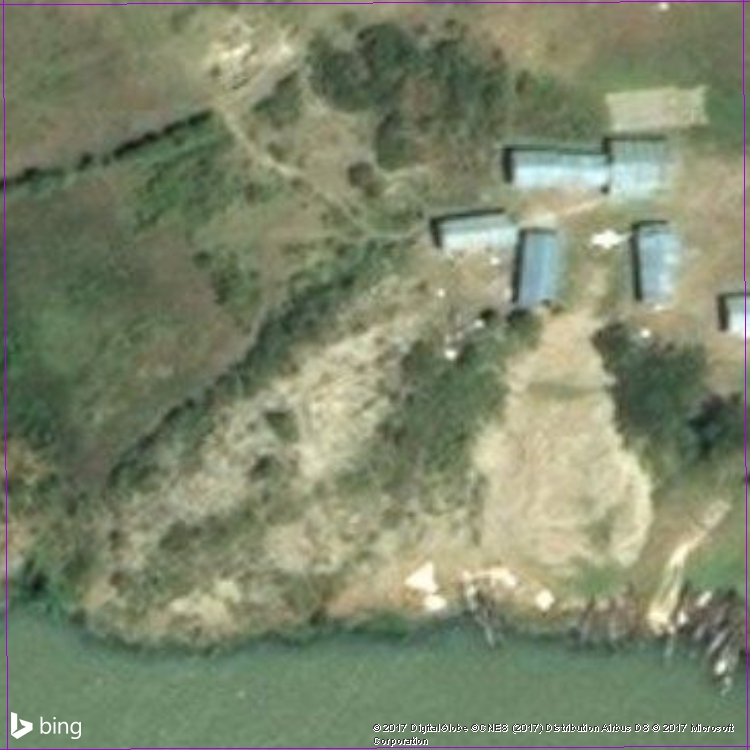boat: (602, 592, 627, 657), (576, 585, 598, 657), (621, 577, 643, 648)
